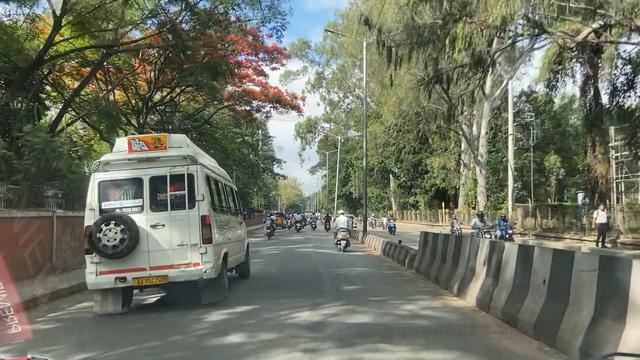HMV: (92, 139, 255, 316)
